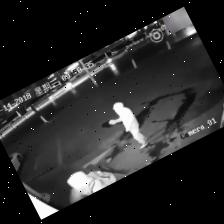person: (110, 102, 148, 148), (68, 171, 117, 203)
